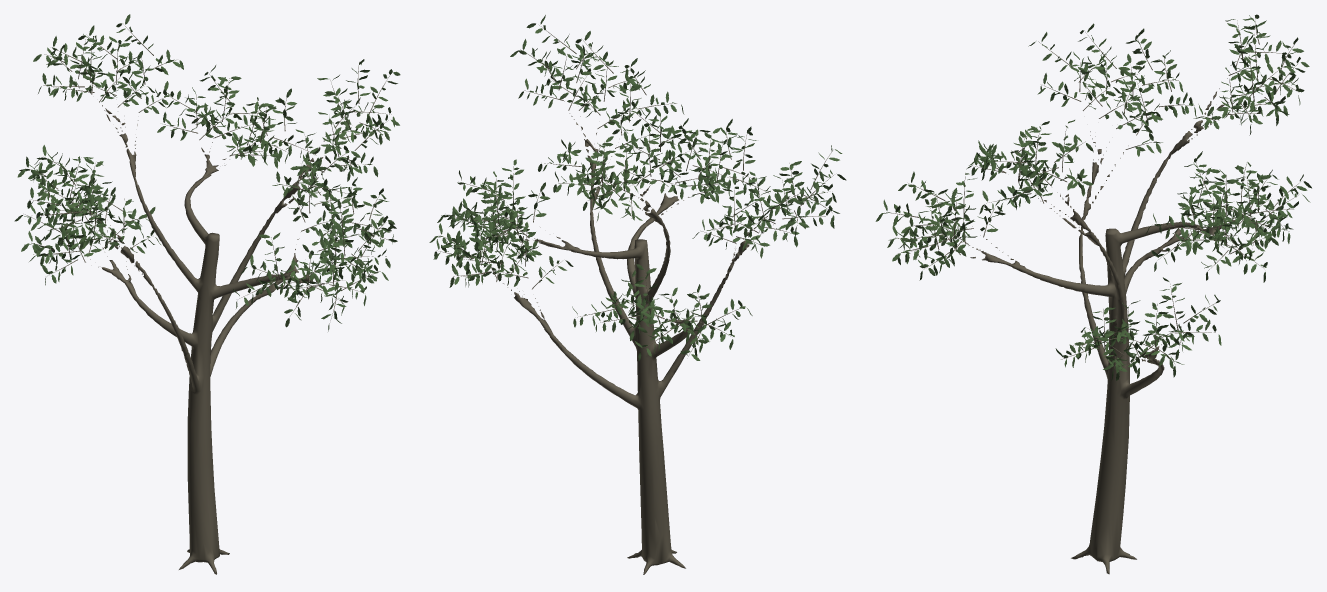
Rendered from CheneVert_0_Niveau0.fbx.
3 renders of one model, left to right at view 1: azimuth 30°, elevation 25°; view 2: azimuth 150°, elevation 25°; view 3: azimuth 270°, elevation 25°, orthographic. The views are drawn at different scales.
Parts seen in each view (by area): view 1: CheneVert_0_Niveau0; view 2: CheneVert_0_Niveau0; view 3: CheneVert_0_Niveau0.
Boxes of the visible parts, box(x1,y1,x2,y2) form: CheneVert_0_Niveau0: box(14, 14, 400, 574); CheneVert_0_Niveau0: box(429, 15, 846, 574); CheneVert_0_Niveau0: box(875, 14, 1311, 574).
Size of the model in its own units: 297 by 374 by 287.
